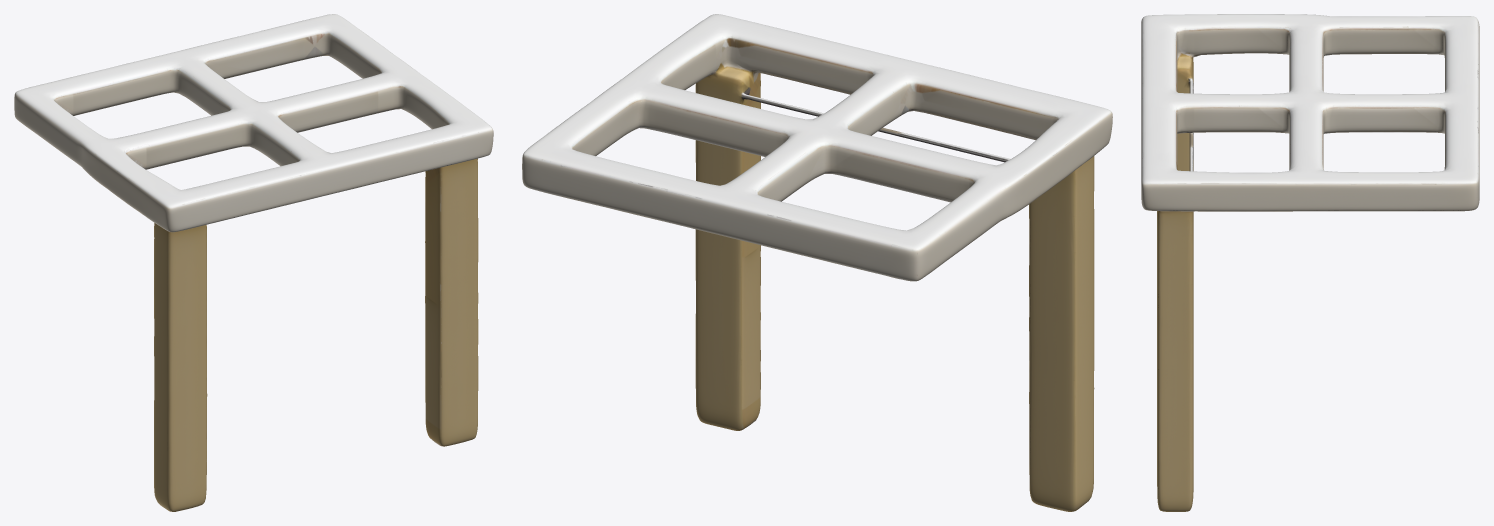
File: Domo_Eventos01.fbx
3 views of the same model, side by side, from view 1: azimuth 30°, elevation 25°; view 2: azimuth 150°, elevation 25°; view 3: azimuth 270°, elevation 25° (orthographic). The views are drawn at different scales.
Visible parts, largest first — view 1: Retopo_model; view 2: Retopo_model; view 3: Retopo_model.
Boxes of the visible parts, <box> form: Retopo_model: <box>14,14,493,511</box>; Retopo_model: <box>522,14,1112,511</box>; Retopo_model: <box>1141,14,1479,511</box>.
Size of the model in its own units: 52.24 by 48.23 by 43.93.
1 material, 1 textured.
